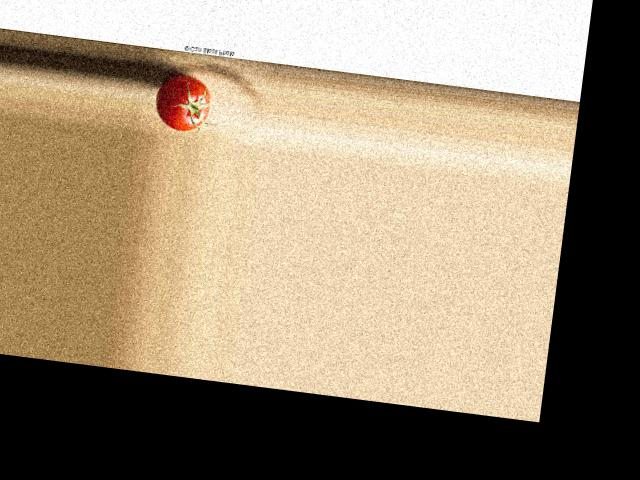tomato: (153, 73, 214, 132)
